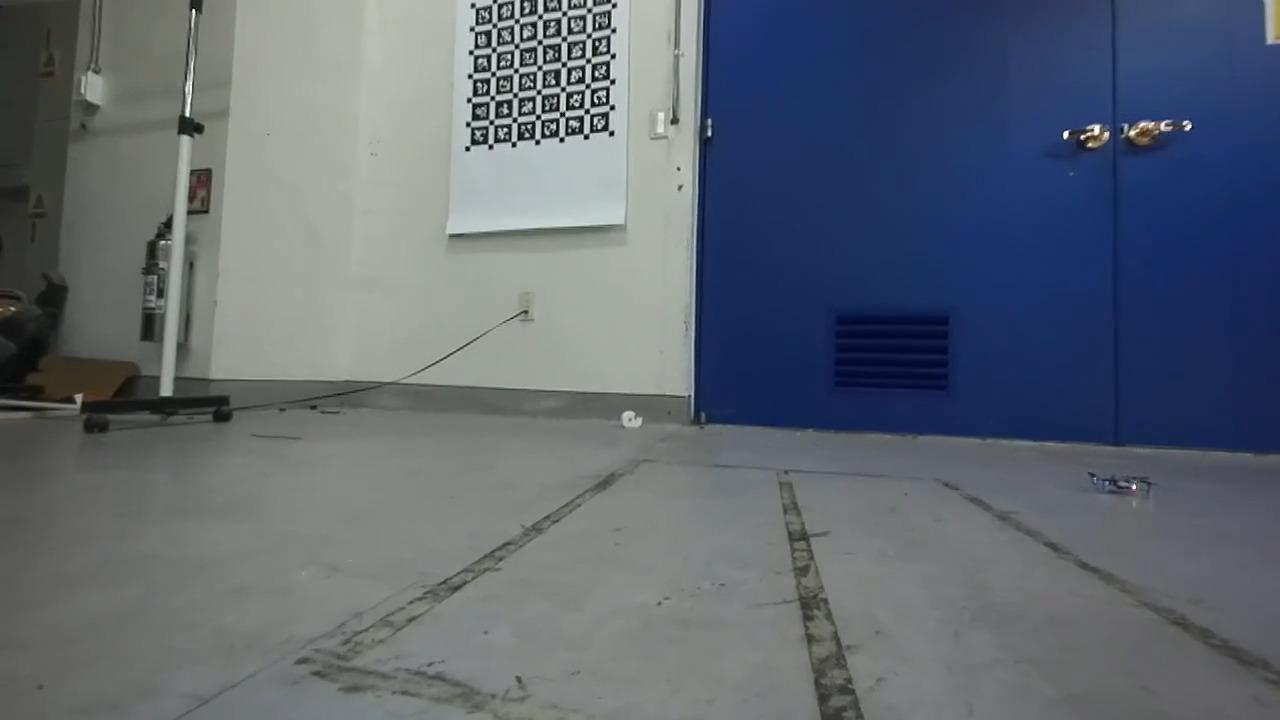crazyflie: (1085, 466, 1154, 502)
